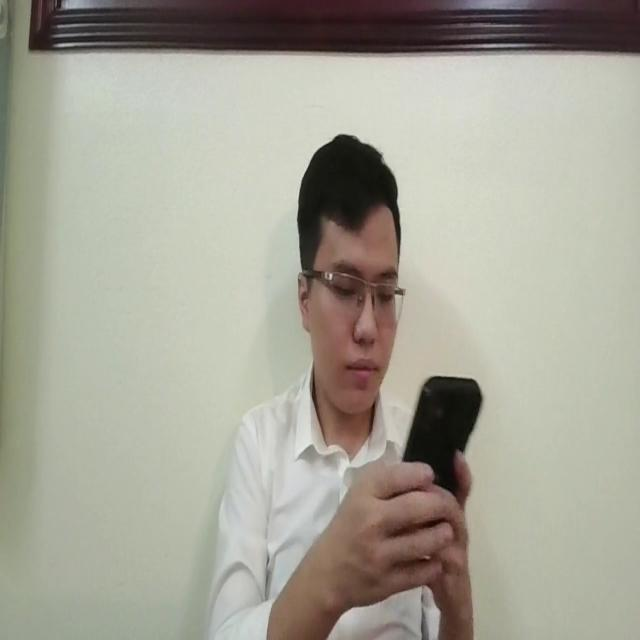phone: (400, 359, 482, 511)
student: (208, 126, 484, 640)
